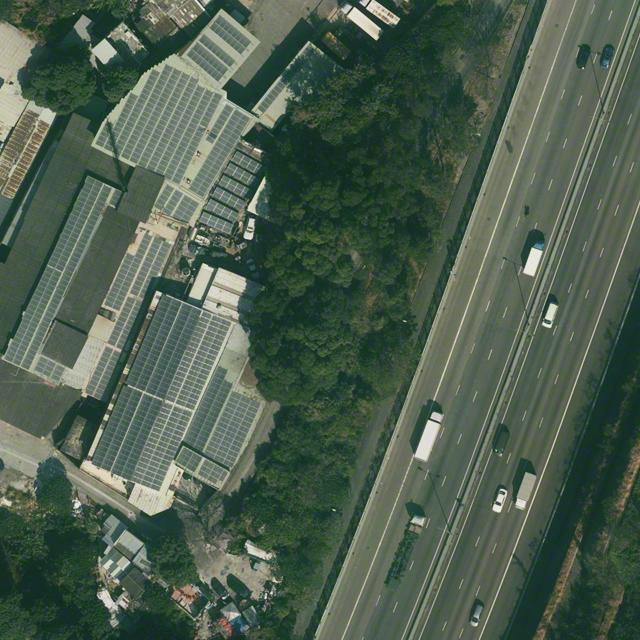panel: (89, 293, 233, 493), (3, 176, 113, 370), (121, 64, 199, 173), (155, 84, 223, 184), (187, 109, 251, 199), (202, 392, 261, 469), (112, 68, 161, 156), (180, 365, 229, 451), (258, 44, 319, 113), (191, 380, 233, 455), (131, 238, 171, 299), (105, 253, 142, 311), (84, 346, 122, 402), (104, 92, 139, 152), (107, 296, 145, 349), (185, 41, 228, 82), (209, 16, 251, 55), (199, 34, 237, 67), (205, 104, 235, 144), (211, 186, 248, 212), (226, 163, 259, 190), (218, 175, 253, 200), (171, 195, 199, 226), (34, 356, 66, 383), (196, 459, 225, 488), (206, 200, 241, 224), (232, 151, 265, 176), (175, 445, 203, 473), (200, 212, 233, 235), (160, 189, 183, 217), (153, 184, 175, 210), (96, 120, 115, 148), (134, 233, 153, 259), (109, 189, 123, 207), (217, 470, 229, 483)
